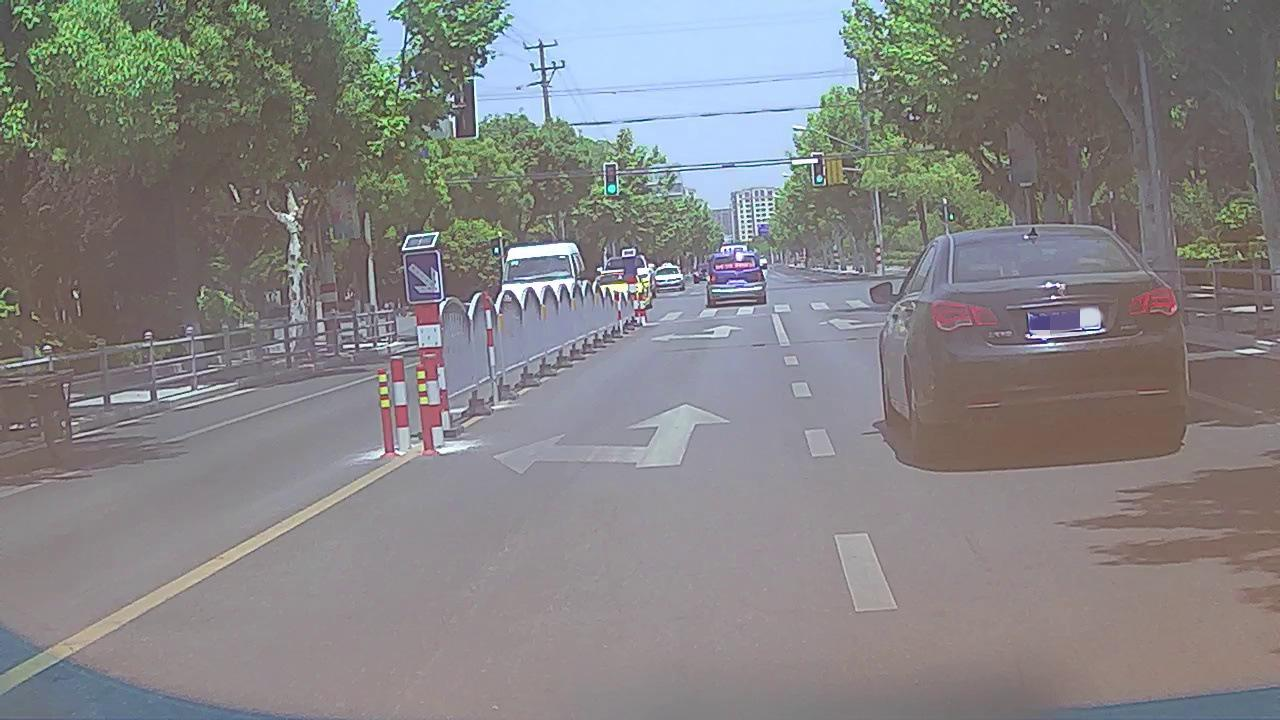traffic_light: (812, 155, 825, 184), (606, 164, 618, 195)
